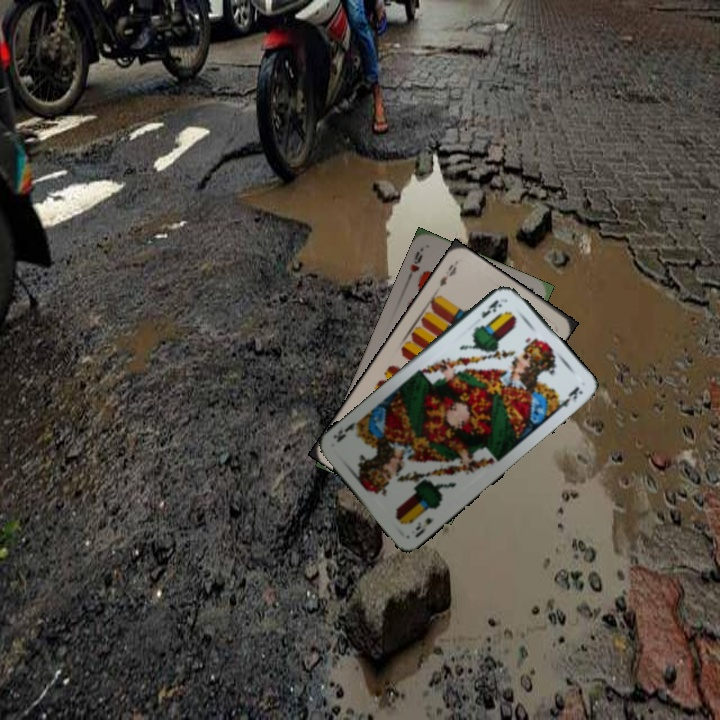E9: (435, 258, 460, 289)
EK: (411, 513, 437, 541), (477, 296, 505, 321)
H9: (403, 245, 425, 283)
